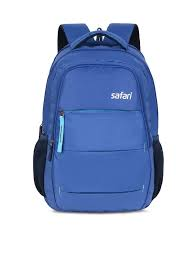backpack: (32, 22, 164, 212)
